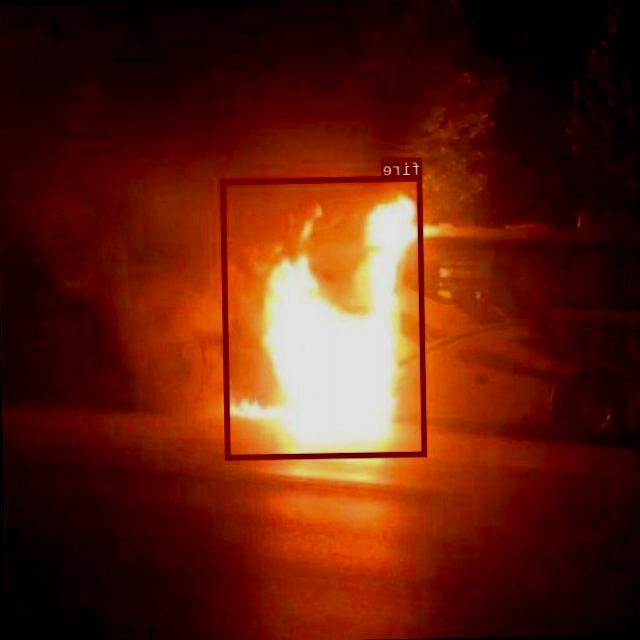fire: (221, 174, 427, 458)
